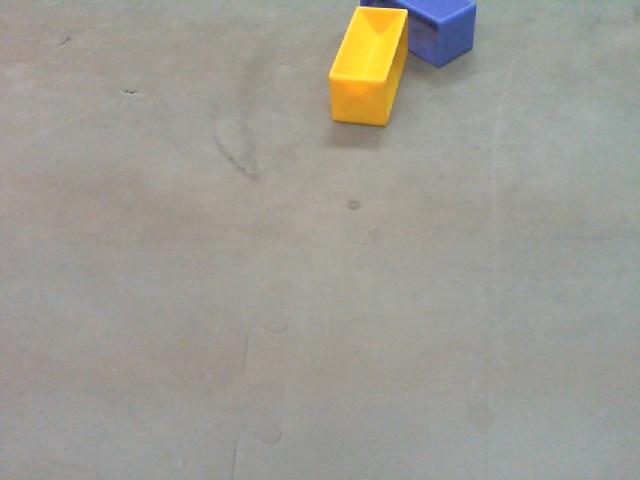BlueSample: (360, 1, 479, 70)
YellowSample: (327, 5, 410, 141)
